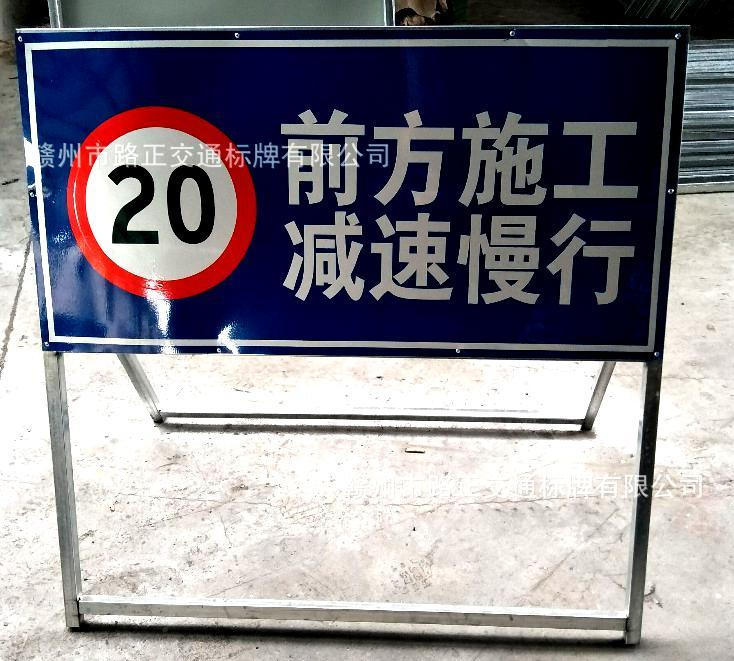sign: (23, 37, 669, 356)
